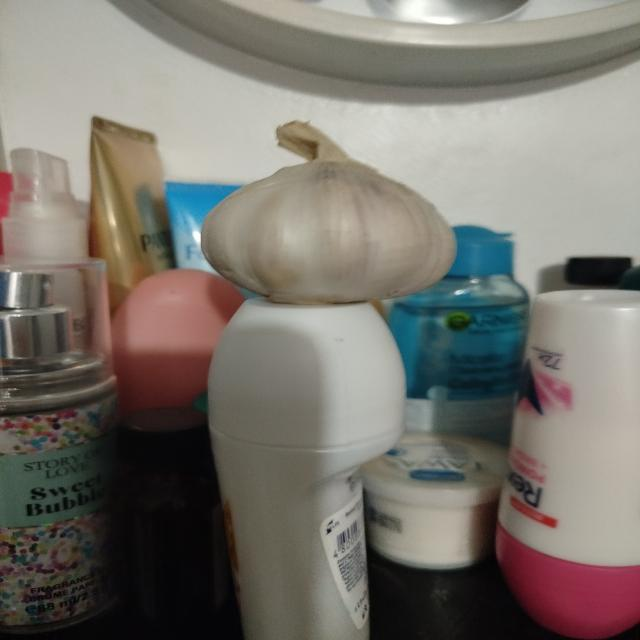garlic: (199, 119, 458, 305)
